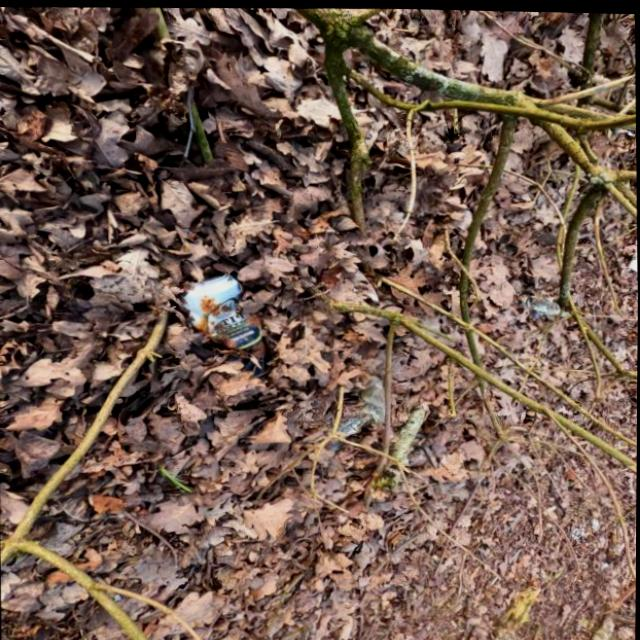Can-Metal: (178, 266, 274, 378)
